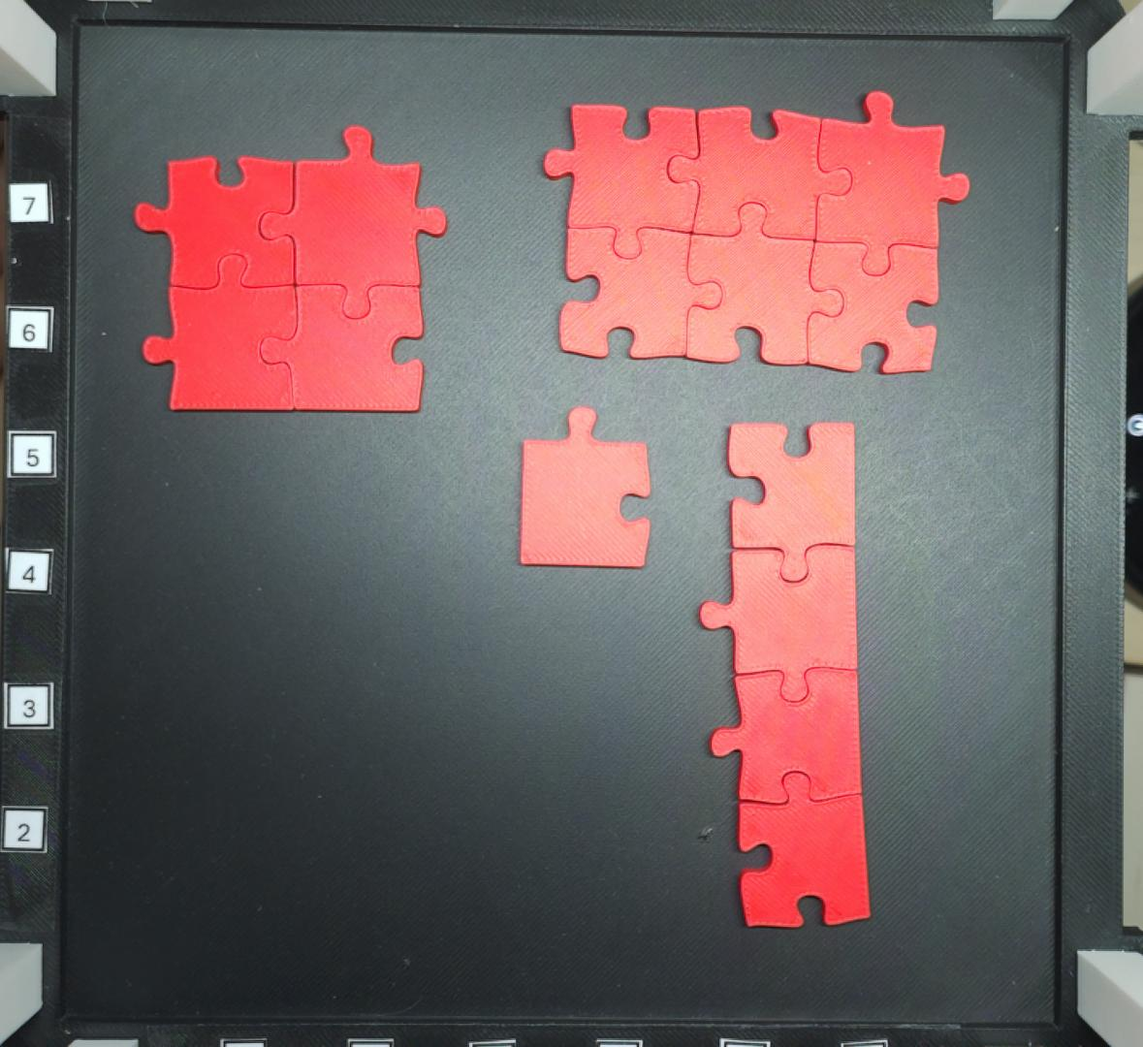p_1: (521, 407, 651, 568)
p_4: (135, 127, 449, 414), (697, 422, 874, 930)
p_m: (541, 92, 975, 377)
